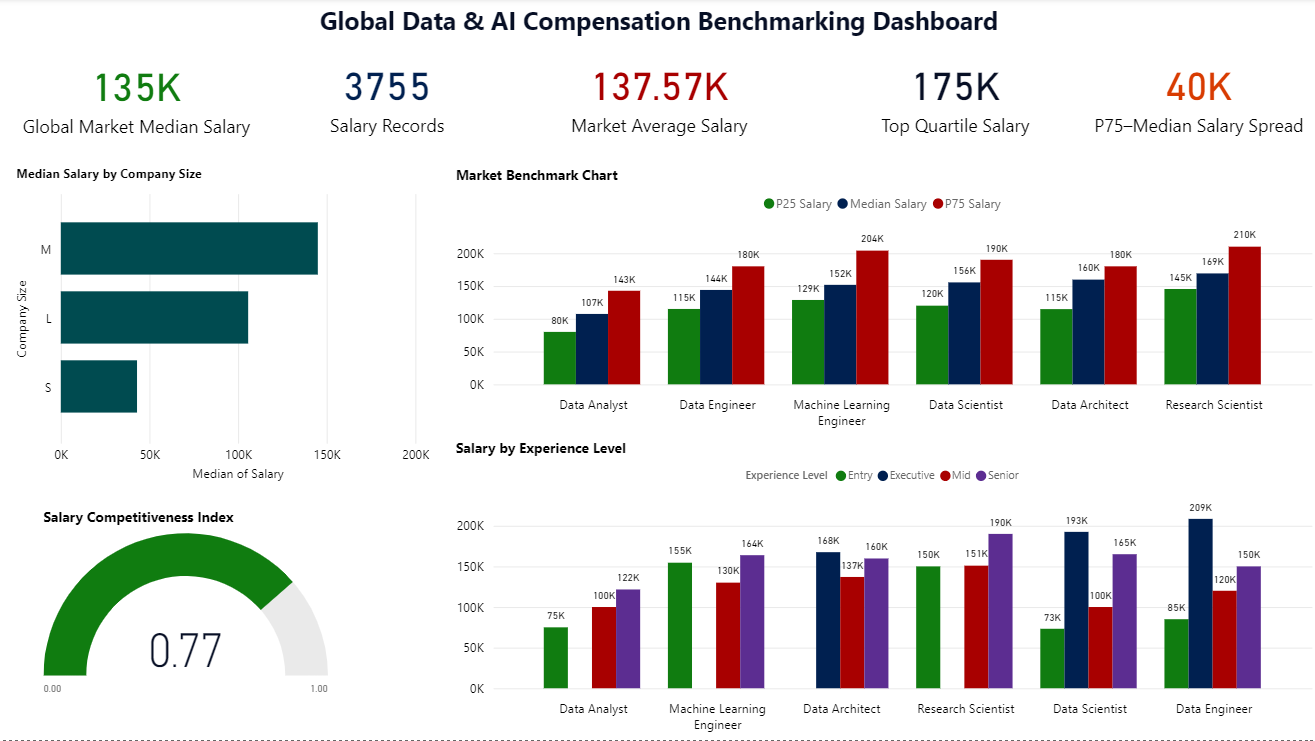

The dashboard page shown, as its layout file describes it:
{"tool":"powerbi","page":{"name":"Dashboard","canvas":[1280,720],"ordinal":0},"visuals":[{"type":"clusteredColumnChart","title":"Market Benchmark Chart","fields":{"Category":["salary_percentiles.job_title"],"Y":["Sum(salary_percentiles.P25)","Sum(salary_percentiles.Median)","Sum(salary_percentiles.P75)"]},"box":[438,162,842,264],"z":0},{"type":"clusteredColumnChart","title":"Salary by Experience Level","fields":{"Category":["salary_by_experience.job_title"],"Y":["Sum(salary_by_experience.salary)"],"Series":["salary_by_experience.experience_level"]},"box":[438,426,842,294],"z":1000},{"type":"clusteredBarChart","title":"Median Salary by Company Size","fields":{"Category":["salary_by_company_size.company_size"],"Y":["Median(salary_by_company_size.salary_in_usd)"]},"box":[12,162,406,312],"z":2000},{"type":"card","fields":{"Values":["salary_by_company_size.Median Salary"]},"box":[0,44,266,102],"z":3000},{"type":"card","fields":{"Values":["market_positioning (5).P75 Salary"]},"box":[816,42,222,102],"z":4000},{"type":"card","fields":{"Values":["market_positioning (5).Average Salary"]},"box":[528,42,224,102],"z":5000},{"type":"card","fields":{"Values":["market_positioning (5).Salary Records"]},"box":[266,42,220,102],"z":6000},{"type":"gauge","fields":{"Y":["market_positioning (5).Salary Competitiveness Index"]},"box":[38,494,286,192],"z":7000},{"type":"card","fields":{"Values":["market_positioning (5).Salary Spread"]},"box":[1048,42,232,102],"z":8000},{"type":"textbox","box":[282,0,716,46],"z":8001}]}

Visuals, with their boxes in screenshot pixels (x1, y1, x2, y2), scaled from the page's 1280x720 canvas onto the 1315x741 screenshot:
"Market Benchmark Chart" clusteredColumnChart: <box>450,167,1314,438</box>
"Salary by Experience Level" clusteredColumnChart: <box>450,438,1314,740</box>
"Median Salary by Company Size" clusteredBarChart: <box>12,167,429,488</box>
card - salary_by_company_size.Median Salary: <box>0,45,273,150</box>
card - market_positioning (5).P75 Salary: <box>838,43,1066,148</box>
card - market_positioning (5).Average Salary: <box>542,43,773,148</box>
card - market_positioning (5).Salary Records: <box>273,43,499,148</box>
gauge - market_positioning (5).Salary Competitiveness Index: <box>39,508,333,706</box>
card - market_positioning (5).Salary Spread: <box>1077,43,1314,148</box>
textbox: <box>290,0,1025,47</box>
